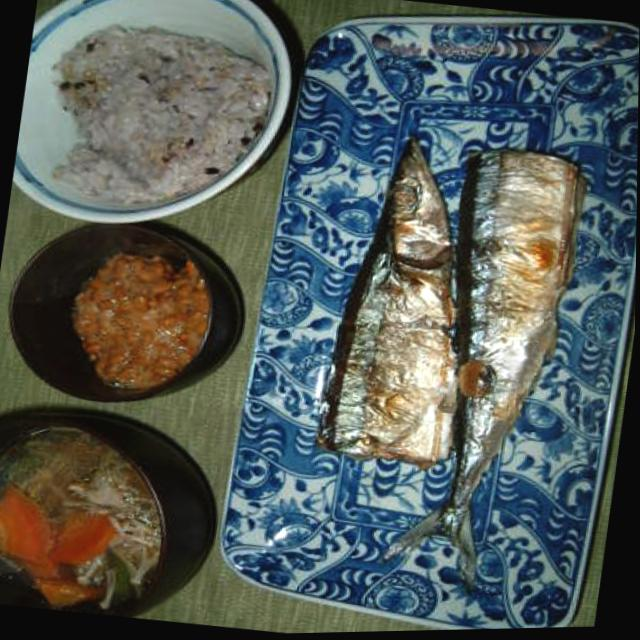熟制海鲜: (211, 4, 640, 636)
蔬菜料理: (0, 499, 294, 638)
